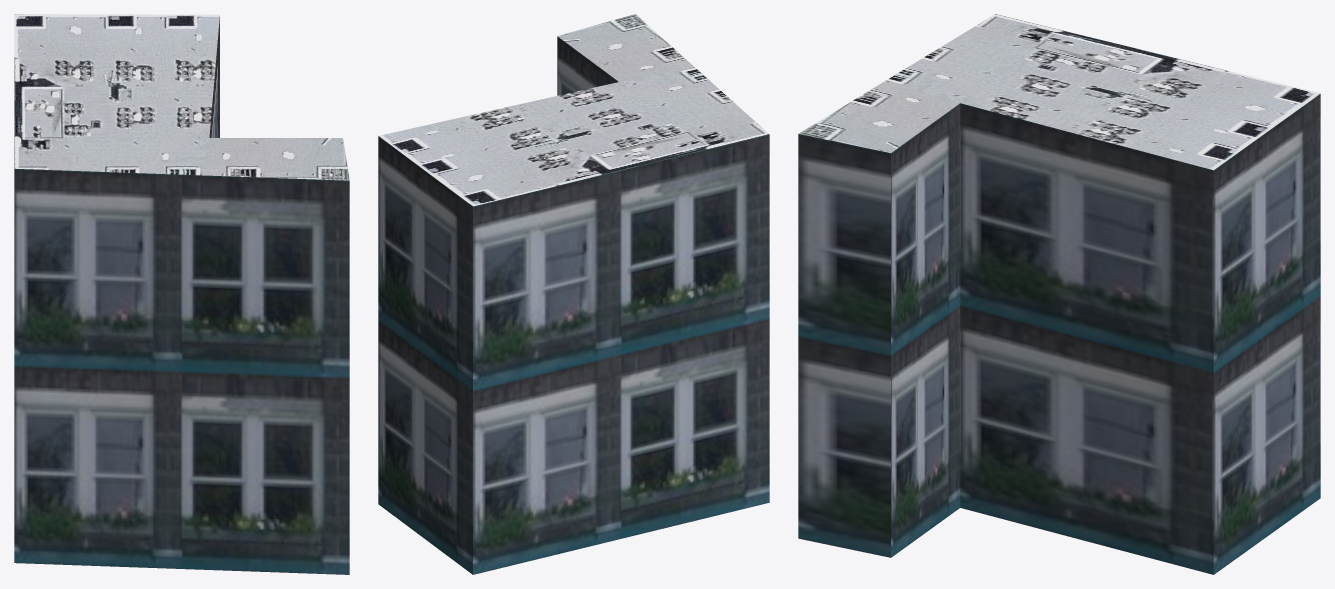
File: ResTex__5148.fbx
3 renders of one model, left to right at view 1: azimuth 30°, elevation 25°; view 2: azimuth 150°, elevation 25°; view 3: azimuth 270°, elevation 25°, orthographic. The views are drawn at different scales.
Visible parts, largest first — view 1: CityEngineMaterial_11_m, CityEngineMaterial_4_m; view 2: CityEngineMaterial_11_m, CityEngineMaterial_4_m; view 3: CityEngineMaterial_11_m, CityEngineMaterial_4_m.
Part boxes in pixels (x1=…): CityEngineMaterial_11_m: x1=14, y1=17, x2=349, y2=574; CityEngineMaterial_4_m: x1=14, y1=14, x2=349, y2=180; CityEngineMaterial_11_m: x1=378, y1=36, x2=769, y2=574; CityEngineMaterial_4_m: x1=379, y1=14, x2=768, y2=206; CityEngineMaterial_11_m: x1=798, y1=94, x2=1320, y2=574; CityEngineMaterial_4_m: x1=798, y1=14, x2=1320, y2=170.
Bounding box in the file's own units: 4.97 × 6 × 7.02.
2 materials, 2 textured.
